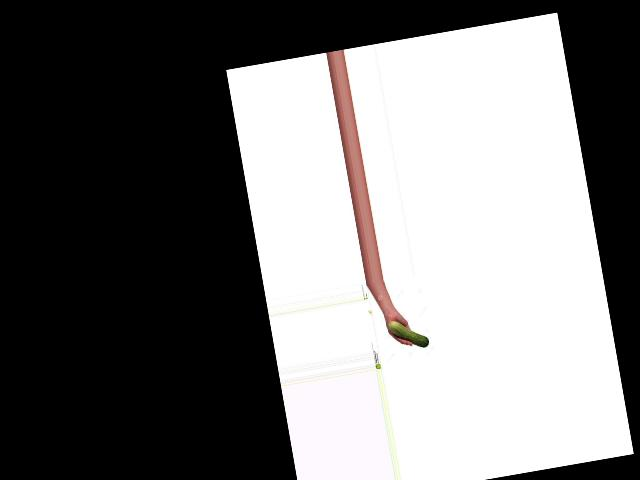cucumber: (387, 315, 429, 352)
